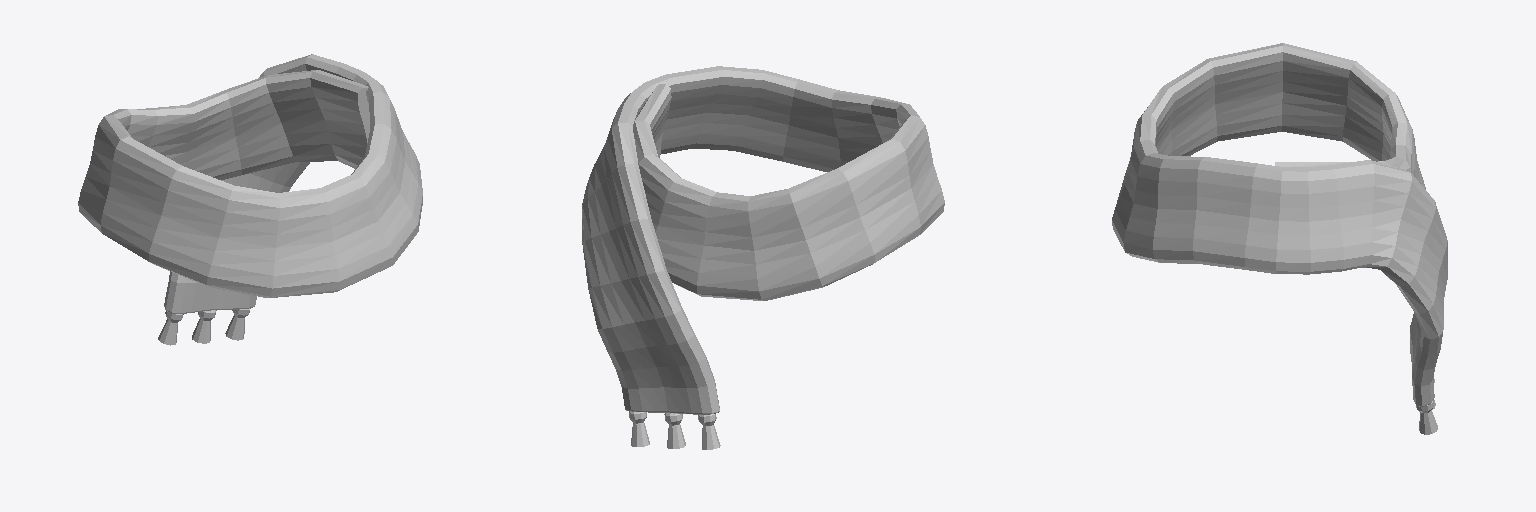
File: scarf.obj
3 views of the same model, side by side, from view 1: azimuth 30°, elevation 25°; view 2: azimuth 150°, elevation 25°; view 3: azimuth 270°, elevation 25° (orthographic).
Parts seen in each view (by area): view 1: BezierCircle.009_BezierCircle.001; view 2: BezierCircle.009_BezierCircle.001; view 3: BezierCircle.009_BezierCircle.001.
Boxes of the visible parts, <box> form: BezierCircle.009_BezierCircle.001: <box>78,54,422,345</box>; BezierCircle.009_BezierCircle.001: <box>582,66,944,449</box>; BezierCircle.009_BezierCircle.001: <box>1112,43,1447,434</box>.
Bounding box in the file's own units: 1.66 × 1.53 × 1.56.